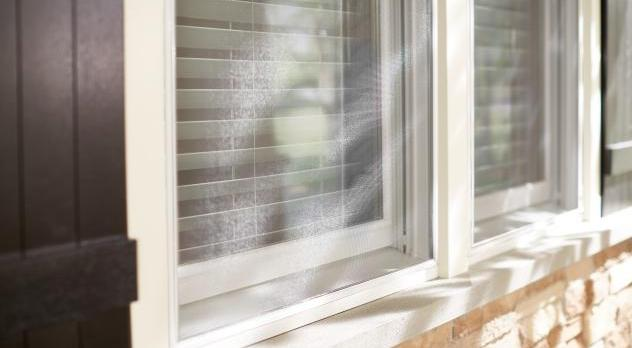windows: (175, 1, 592, 340)
